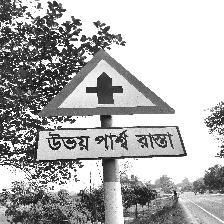Crossroad: (35, 48, 185, 161)
